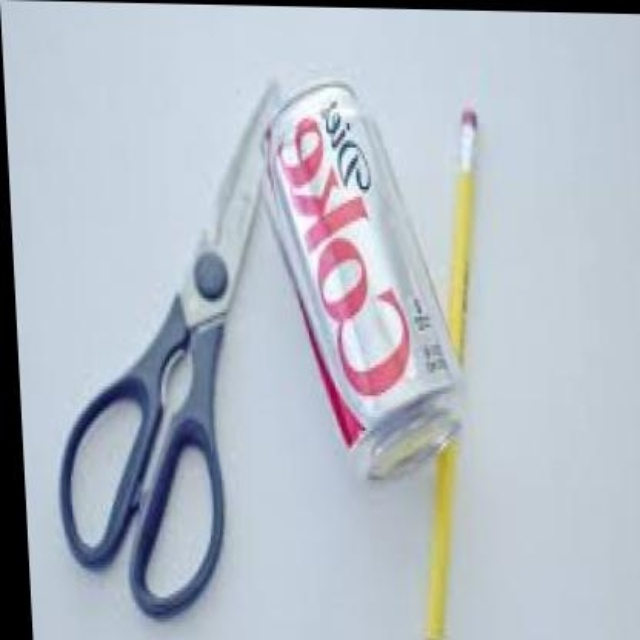trash: (263, 83, 460, 477)
